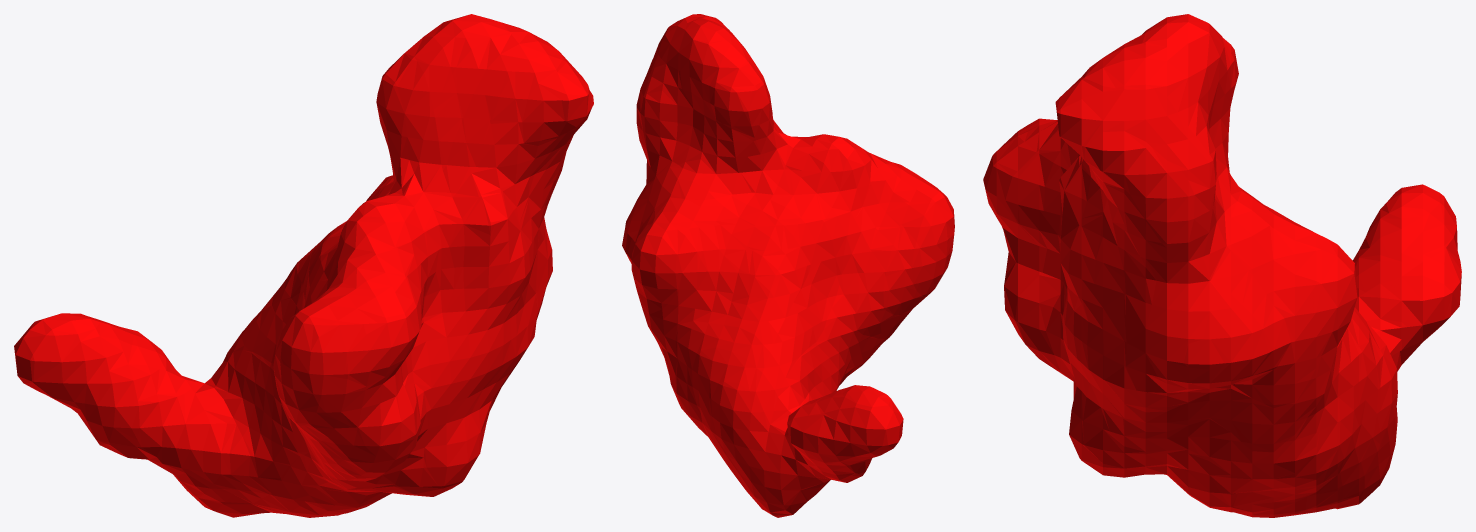
Rendered from ibpA_coarse.dae.
3 renders of one model, left to right at view 1: azimuth 30°, elevation 25°; view 2: azimuth 150°, elevation 25°; view 3: azimuth 270°, elevation 25°, orthographic. The views are drawn at different scales.
Visible parts, largest first — view 1: ibpA; view 2: ibpA; view 3: ibpA.
Boxes of the visible parts, left/top/right/bottom form: ibpA: left=14, top=14, right=593, bottom=517; ibpA: left=622, top=14, right=954, bottom=517; ibpA: left=983, top=14, right=1461, bottom=517.
Size of the model in its own units: 53.14 by 59.58 by 45.18.
